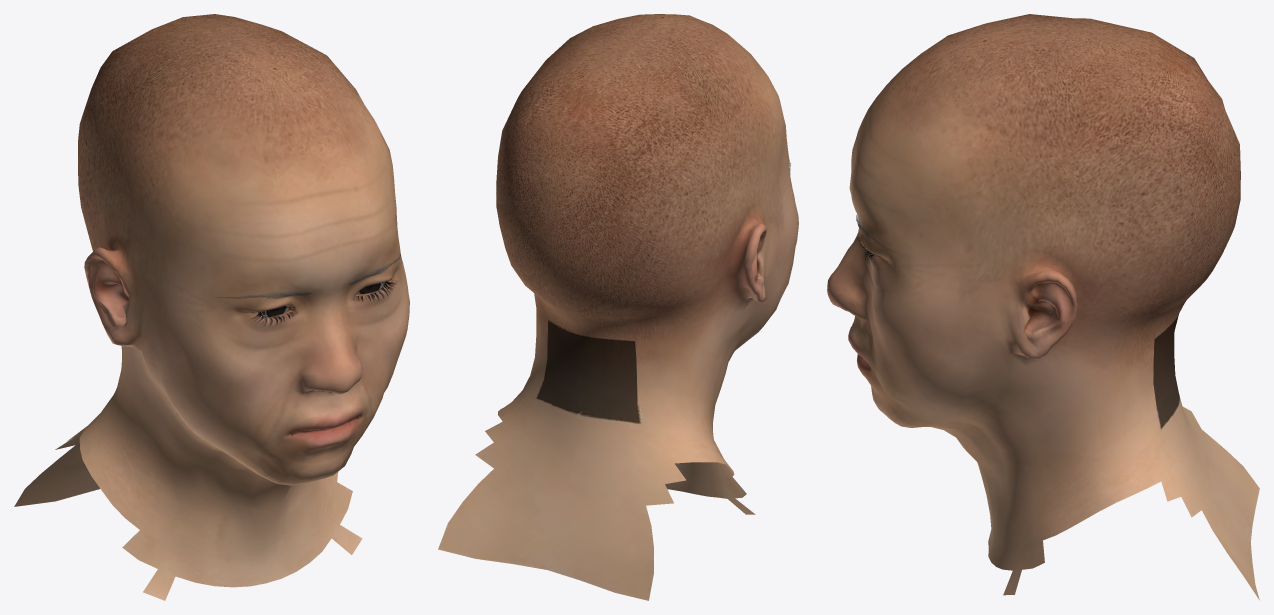
Rendered from patient05.glb.
The picture shows the model from 3 angles, left to right: view 1: azimuth 30°, elevation 25°; view 2: azimuth 150°, elevation 25°; view 3: azimuth 270°, elevation 25°; orthographic projection. The views are drawn at different scales.
Parts seen in each view (by area): view 1: kim_sajang.body, kim_sajang.eyebrow001, kim_sajang.eyelashes01; view 2: kim_sajang.body; view 3: kim_sajang.body.
Boxes of the visible parts, bbox=[...] form: kim_sajang.body: bbox=[14, 14, 409, 600]; kim_sajang.eyebrow001: bbox=[220, 254, 400, 298]; kim_sajang.eyelashes01: bbox=[252, 281, 396, 325]; kim_sajang.body: bbox=[438, 14, 798, 600]; kim_sajang.body: bbox=[827, 14, 1259, 600].
Bounding box in the file's own units: 0.1679 × 0.2997 × 0.2265.
7 materials, 6 textured.
